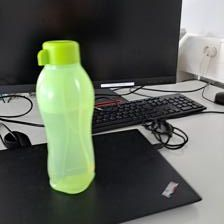bottle: (32, 37, 98, 196)
